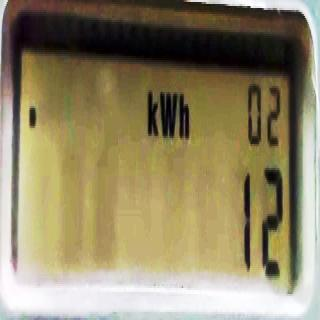-: (28, 102, 37, 132)
0: (246, 78, 262, 152)
1: (242, 162, 254, 274)
2: (259, 155, 284, 290), (266, 78, 281, 153)
